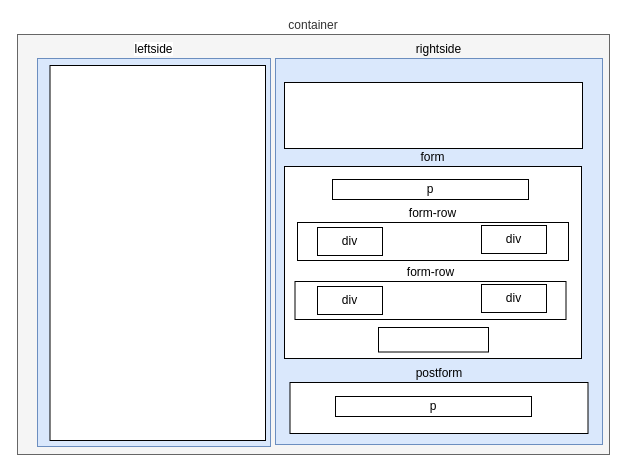
The diagram is 627 pixels wide and 472 high, and some of its shapes have lost their labels. The centre of each missing label's shape, as x and y in pixels:
".submit-btn" goes at (433,339).
"image" goes at (157,252).
"preform" goes at (433,115).
